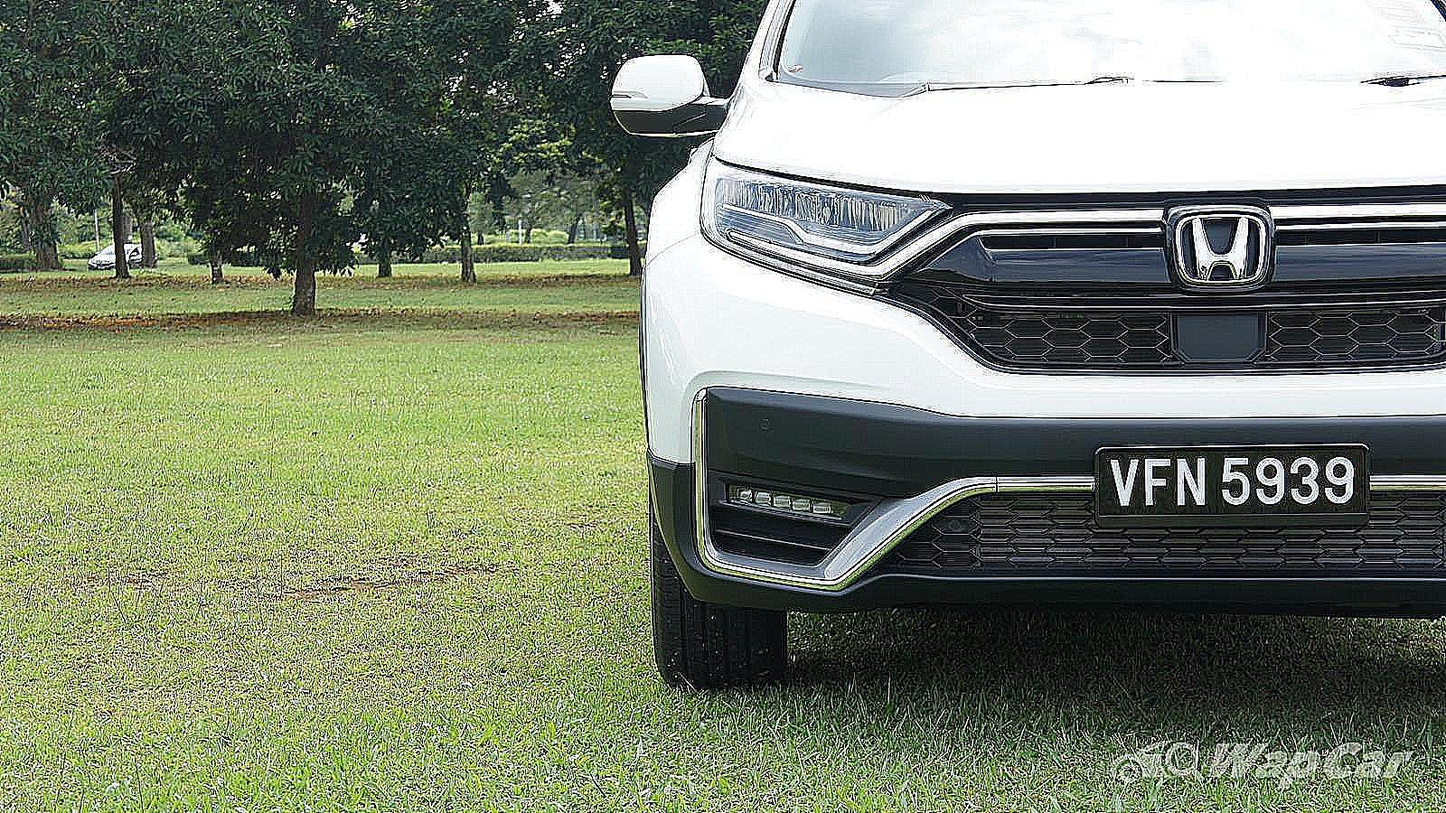Car hood: (709, 76, 1446, 202)
Front bumper: (635, 236, 1446, 615)
Headlight - -R-: (697, 151, 956, 294)
Side mirror - -R-: (607, 56, 727, 143)
